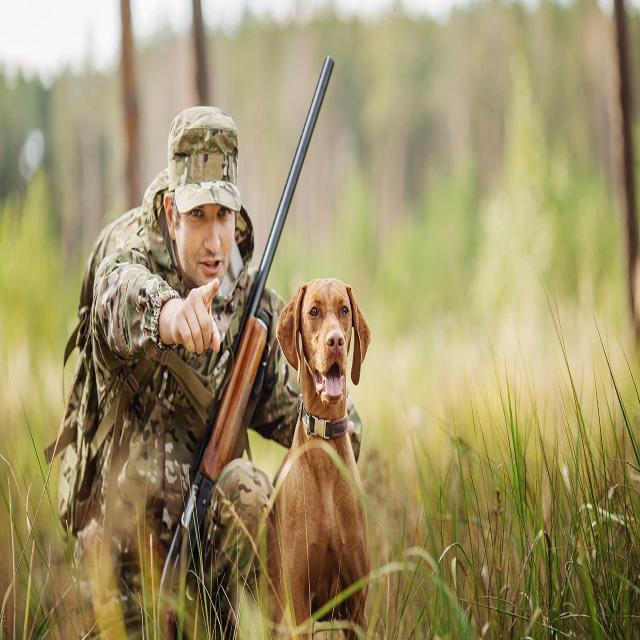Dog: (269, 280, 384, 640)
